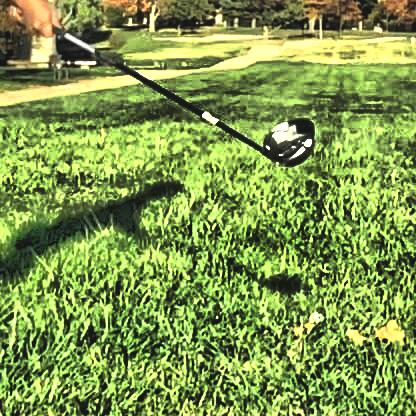golfball: (305, 307, 322, 321)
